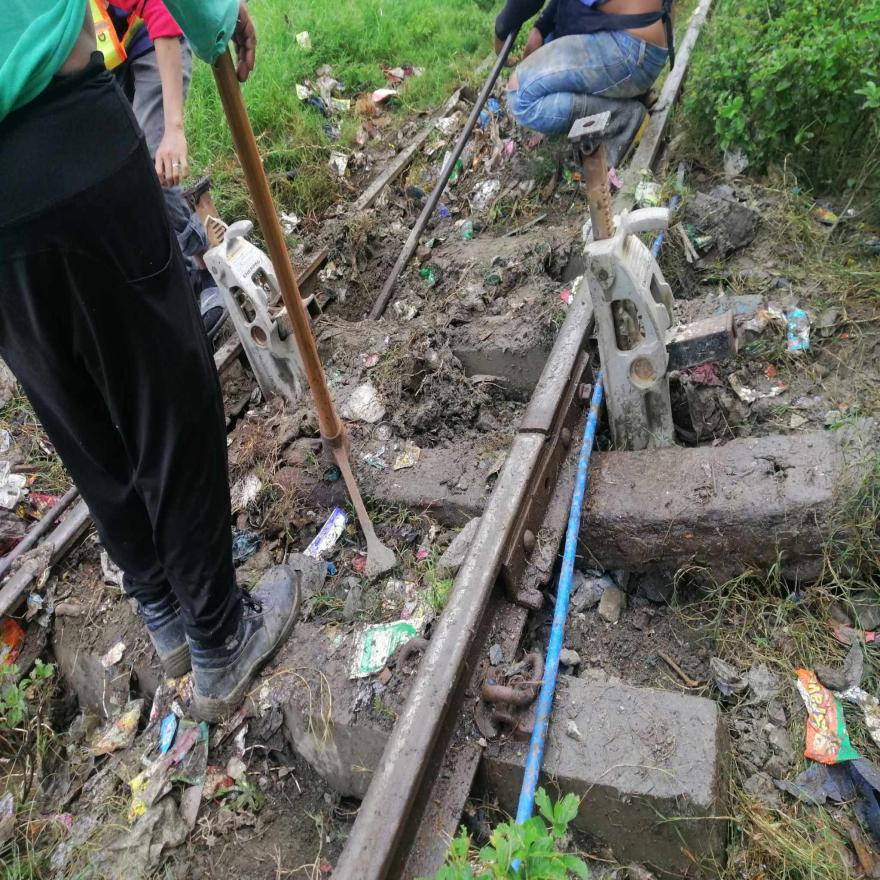railway-gap: (502, 394, 570, 473)
